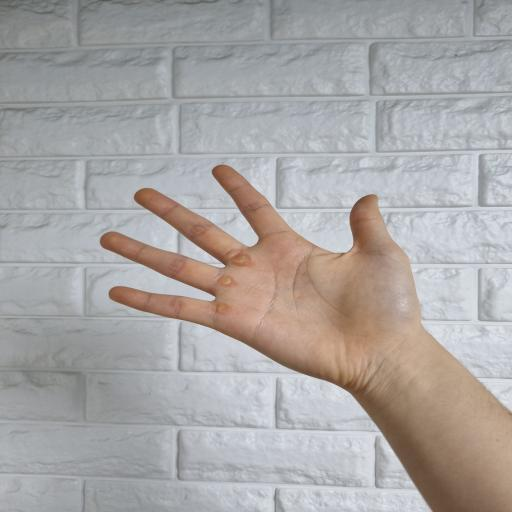Paper: (100, 164, 444, 394)
